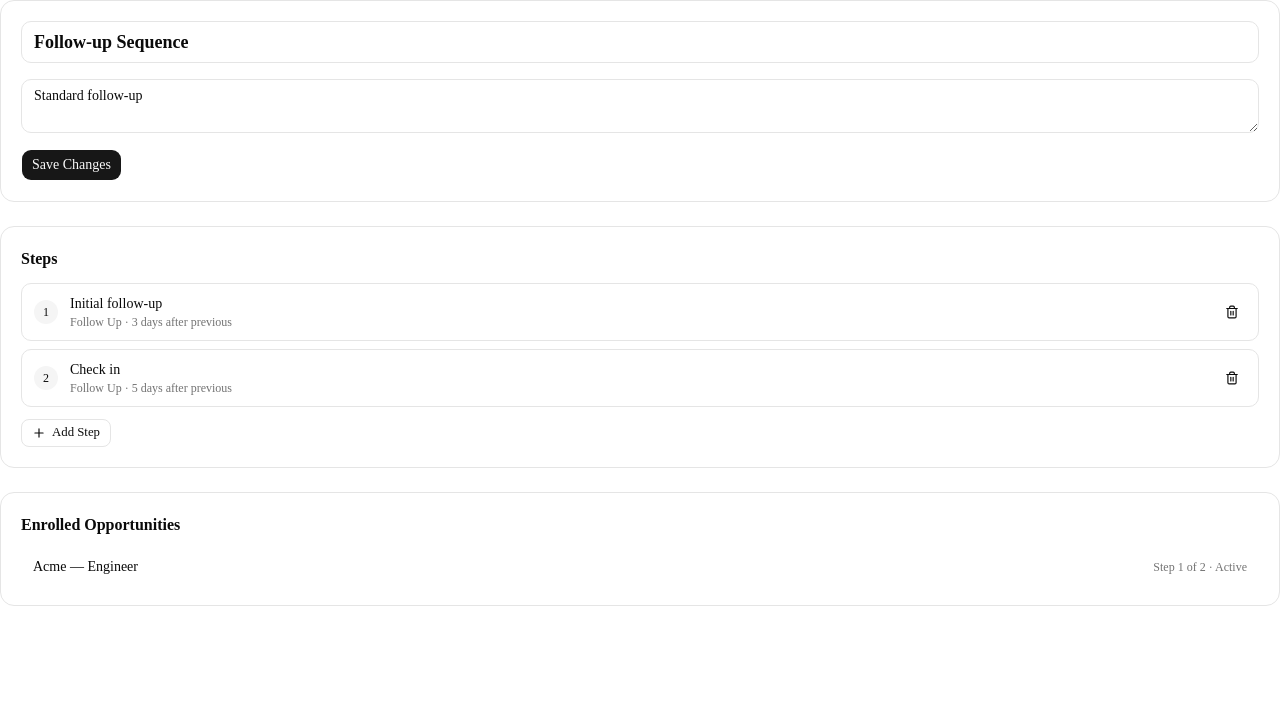
it: opens the new step form
The image size is (1280, 720).
Click the button "Add Step": x=66, y=433 [21, 419, 111, 447]
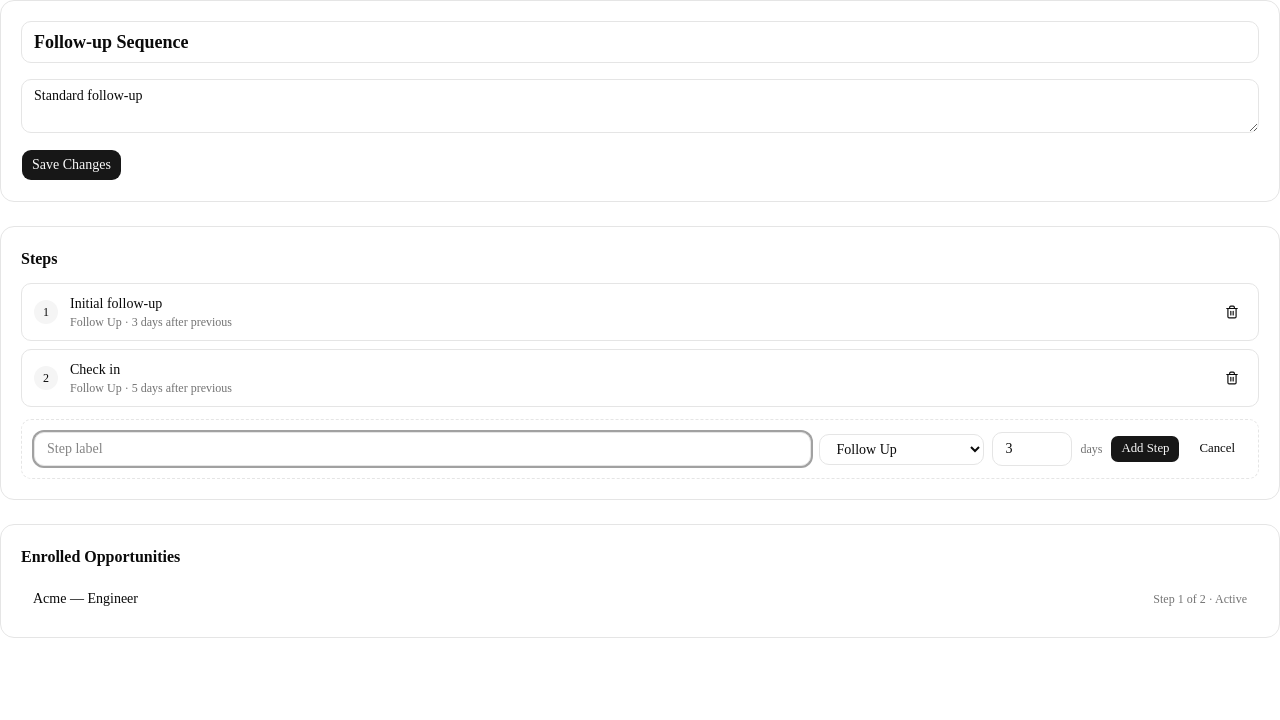
Check: the field with placeholder "Step label" is shown, box [34, 432, 812, 466]
